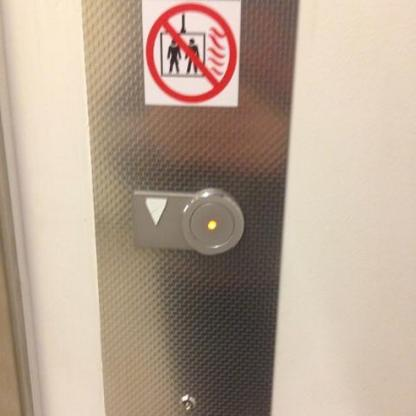down: (128, 184, 248, 256)
keyhole: (178, 394, 196, 410)
